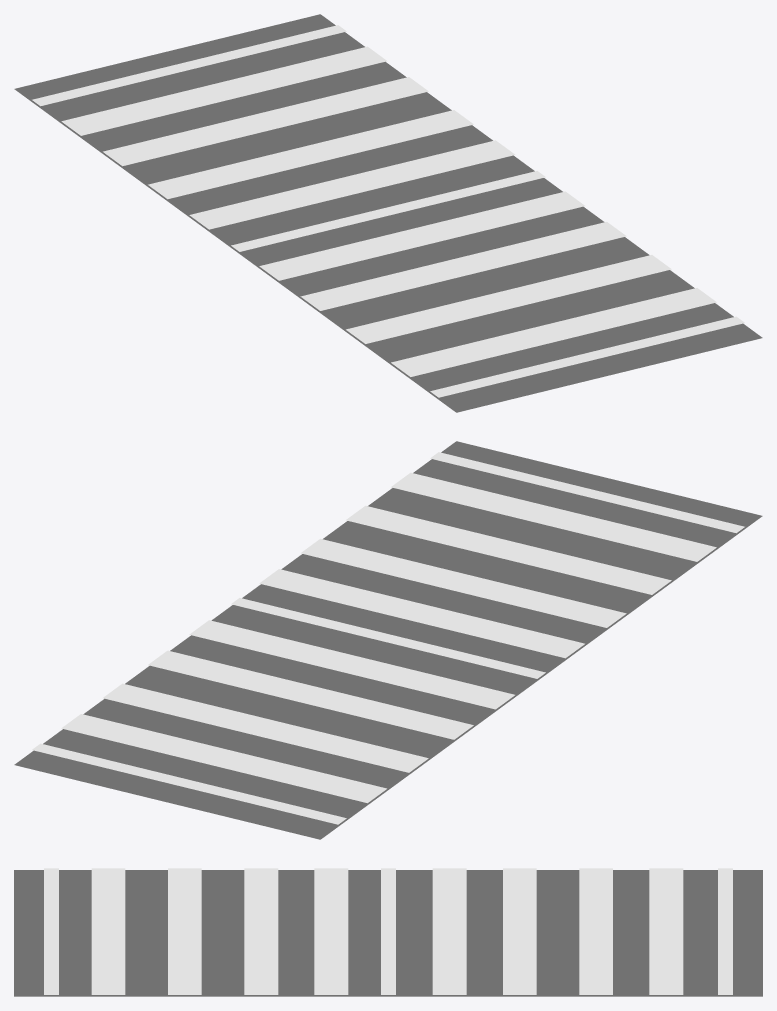
The model's file is SM_Truck_Transition_01.fbx.
3 renders of one model, top to bottom at view 1: azimuth 30°, elevation 25°; view 2: azimuth 150°, elevation 25°; view 3: azimuth 270°, elevation 25°, orthographic. The views are drawn at different scales.
Visible parts, largest first — view 1: SM_Truck_Transition_01; view 2: SM_Truck_Transition_01; view 3: SM_Truck_Transition_01.
Part boxes in pixels (<box>): SM_Truck_Transition_01: <box>14,14,762,412</box>; SM_Truck_Transition_01: <box>14,441,762,839</box>; SM_Truck_Transition_01: <box>14,868,762,996</box>.
Size of the model in its own units: 400 by 2.59 by 1000.
2 materials, 2 textured.
